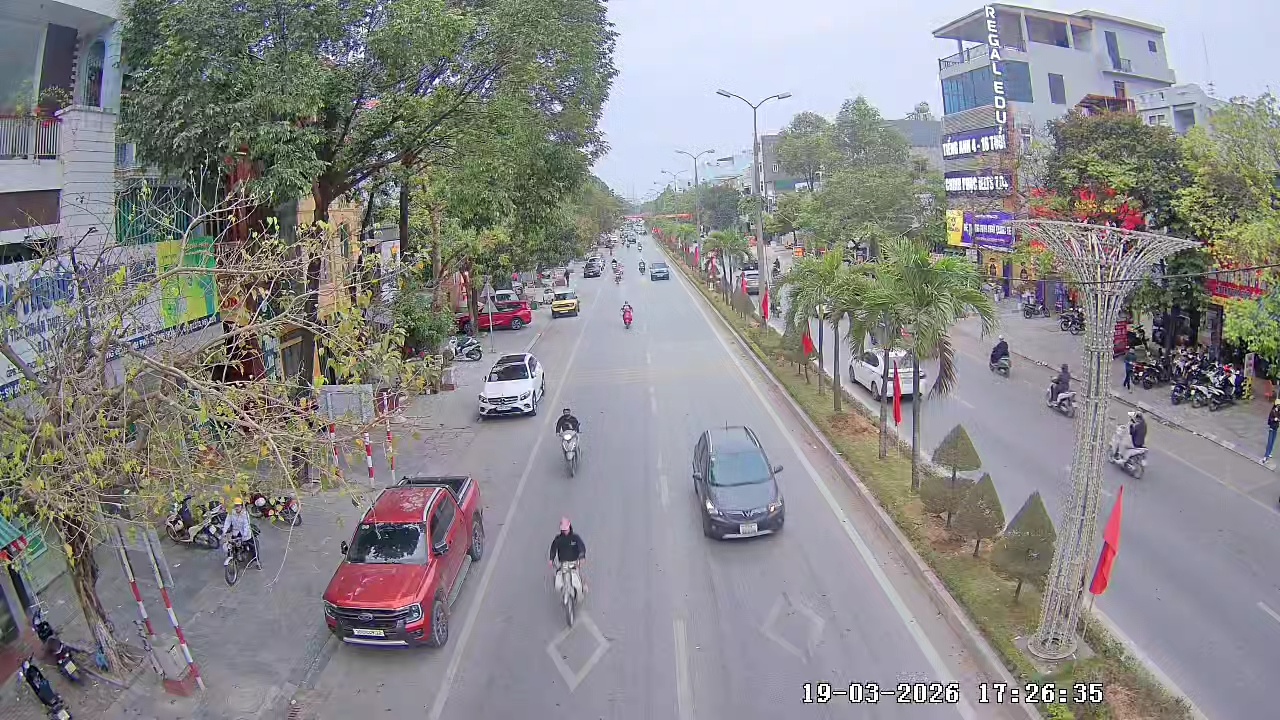car: (322, 472, 488, 649), (689, 424, 787, 539), (476, 352, 548, 420), (485, 293, 532, 330), (550, 288, 583, 318), (650, 259, 671, 281)
motorbike: (543, 518, 592, 626), (1108, 408, 1151, 479), (554, 403, 585, 478), (1045, 362, 1077, 416), (989, 336, 1013, 377), (620, 299, 636, 330)
